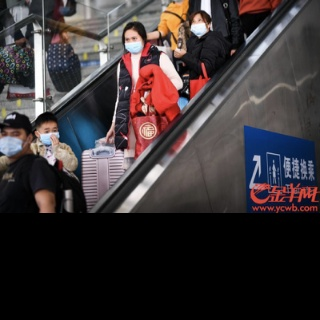with_mask: (0, 130, 25, 158), (39, 127, 60, 146), (190, 16, 208, 37), (123, 36, 142, 53)
